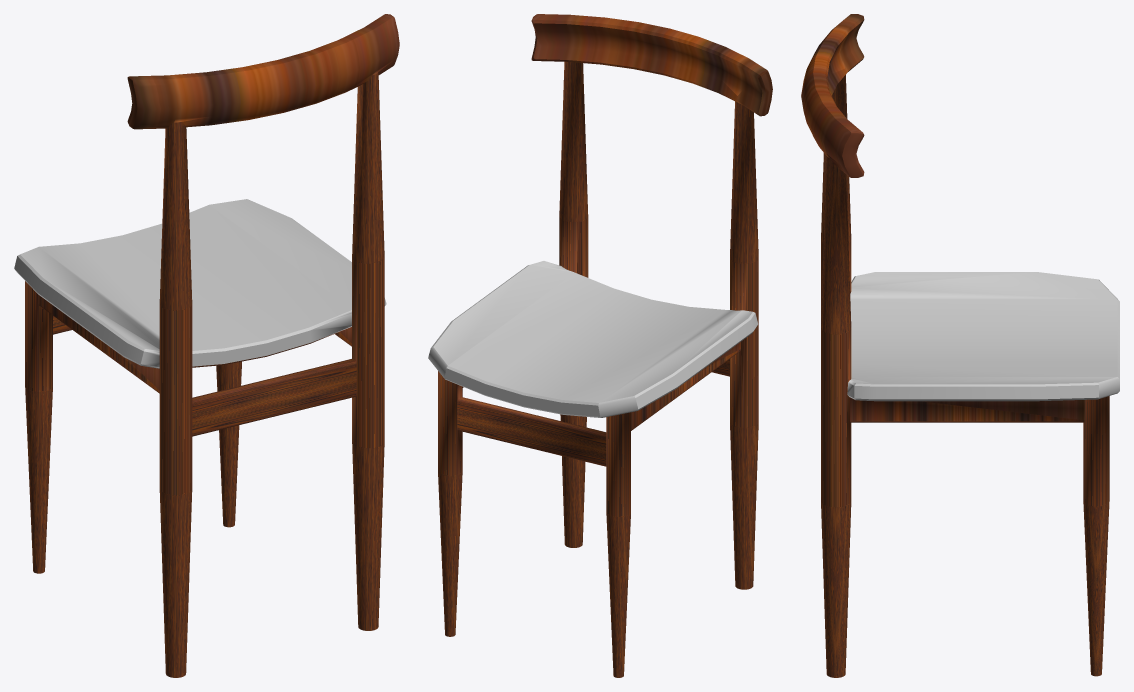
File: Chair.fbx
3 renders of one model, left to right at view 1: azimuth 30°, elevation 25°; view 2: azimuth 150°, elevation 25°; view 3: azimuth 270°, elevation 25°, orthographic. The views are drawn at different scales.
Parts seen in each view (by area): view 1: Box003; view 2: Box003; view 3: Box003.
Boxes of the visible parts, <box> form: Box003: <box>14,14,399,677</box>; Box003: <box>428,14,772,677</box>; Box003: <box>801,14,1119,677</box>.
Bounding box in the file's own units: 173 × 375 × 195.
